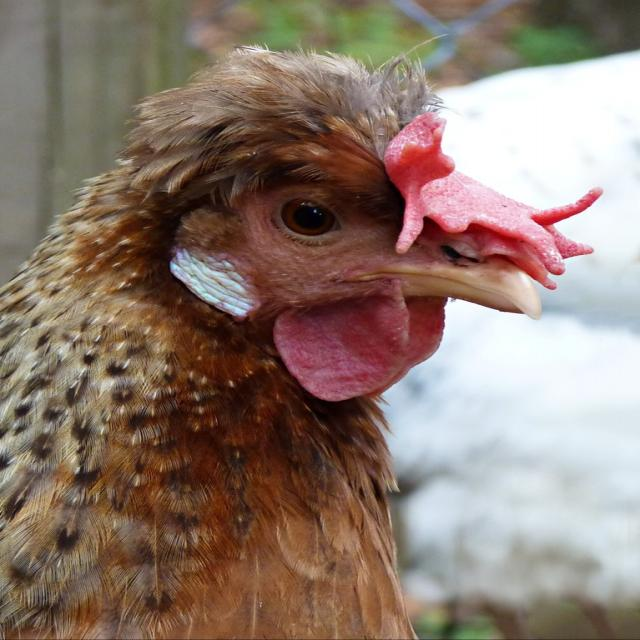Chicken: (0, 36, 601, 636)
